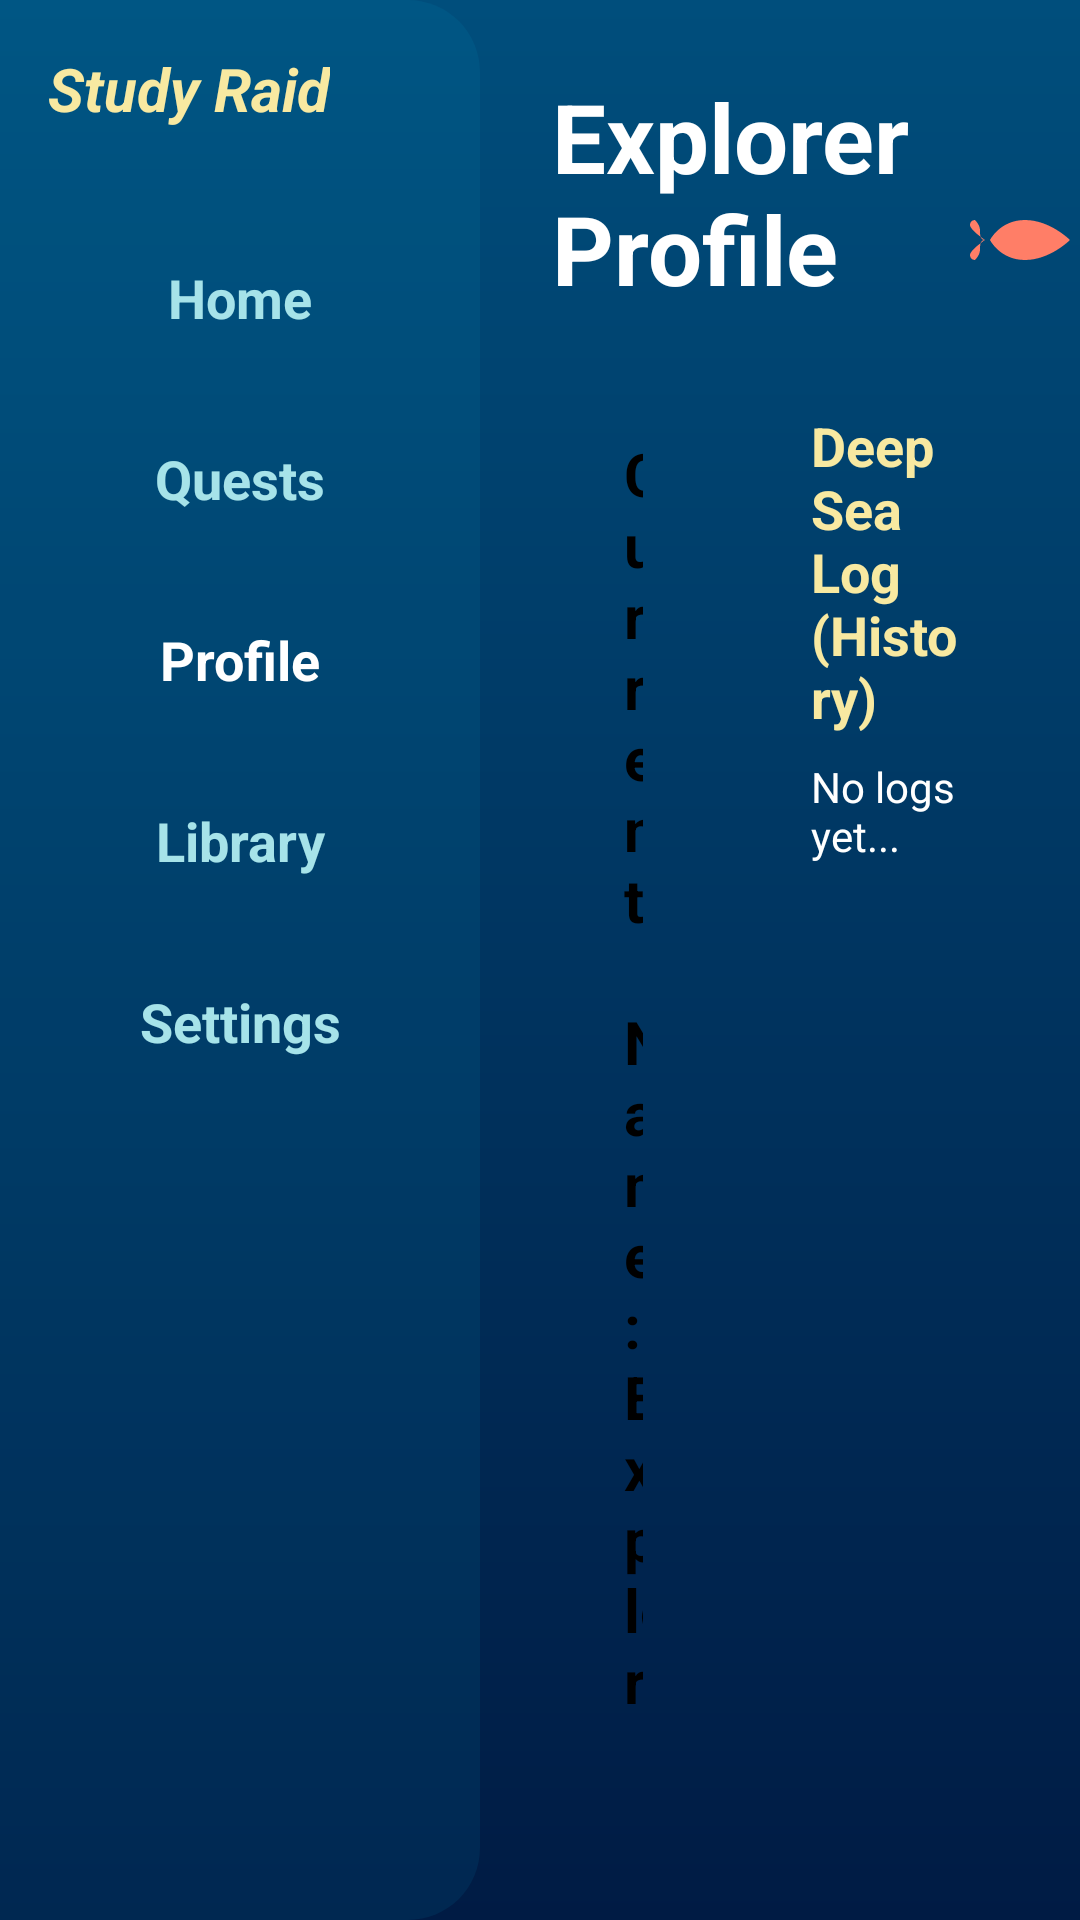

Screen size 1080px×1920px. Icon name, then its box in pixels as {"x1": x1, "y1": y1, "x2": x2, "y2": y2}:
Fish: {"x1": 970, "y1": 220, "x2": 1070, "y2": 260}
